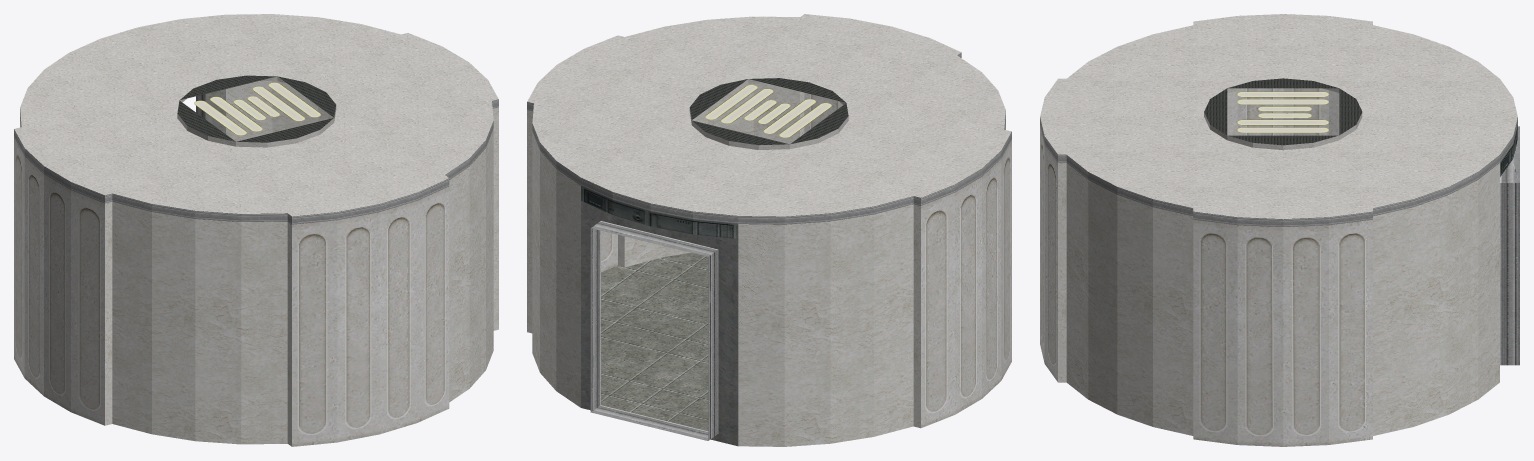
Rendered from ply_all_house_lg_s01_fp1_r10_room8_mesh_r10.fbx.
3 renders of one model, left to right at view 1: azimuth 30°, elevation 25°; view 2: azimuth 150°, elevation 25°; view 3: azimuth 270°, elevation 25°, orthographic.
Parts seen in each view (by area): view 1: mesh_node; view 2: mesh_node; view 3: mesh_node.
Part boxes in pixels (x1,y1,x2,y2): mesh_node: [14, 14, 498, 446]; mesh_node: [527, 14, 1011, 446]; mesh_node: [1040, 14, 1519, 446].
Size of the model in its own units: 7.24 by 3.83 by 7.16.
